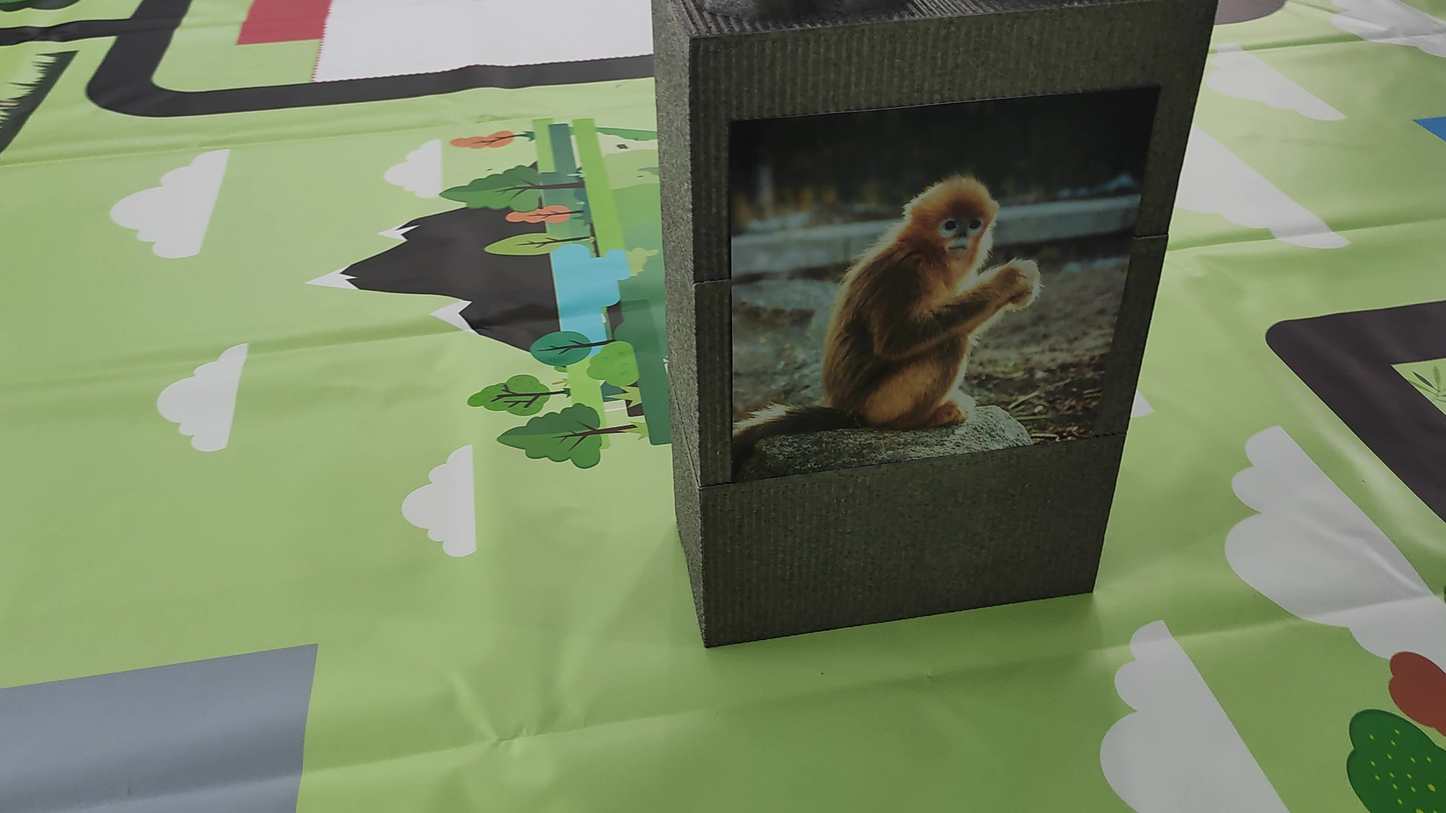monkey: (775, 143, 1075, 456)
